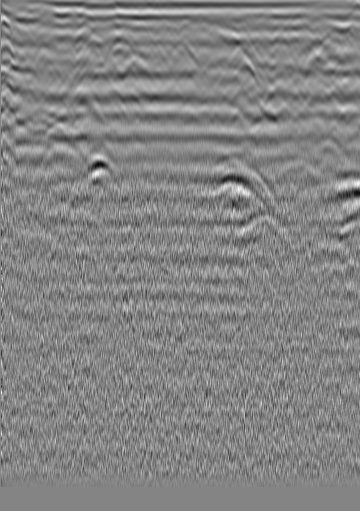가스: (80, 157, 116, 184)
상수: (315, 33, 335, 53)
오수: (34, 16, 54, 36)
우수: (176, 31, 196, 51)
